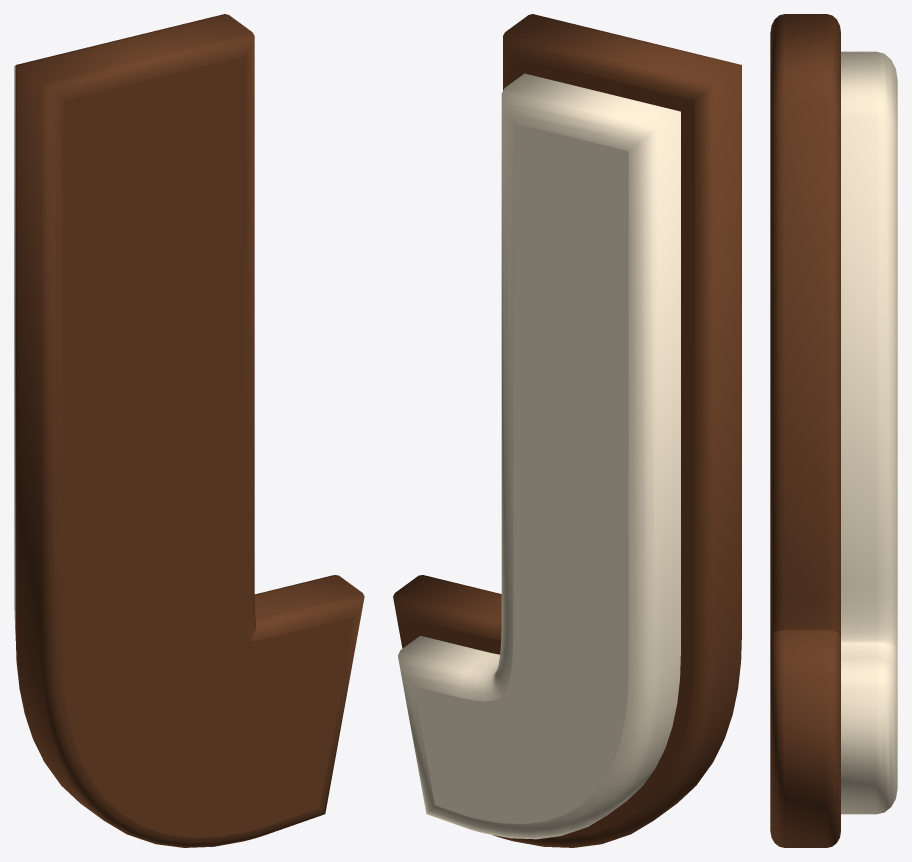
File: Letter_J.fbx
3 views of the same model, side by side, from view 1: azimuth 30°, elevation 25°; view 2: azimuth 150°, elevation 25°; view 3: azimuth 270°, elevation 25° (orthographic). The views are drawn at different scales.
Parts seen in each view (by area): view 1: Letter_J; view 2: Letter_J; view 3: Letter_J.
Boxes of the visible parts, <box> form: Letter_J: <box>14,14,364,847</box>; Letter_J: <box>393,14,741,847</box>; Letter_J: <box>770,14,897,847</box>.
Bounding box in the file's own units: 0.4688 × 1.12 × 0.18.
1 material, 1 textured.
